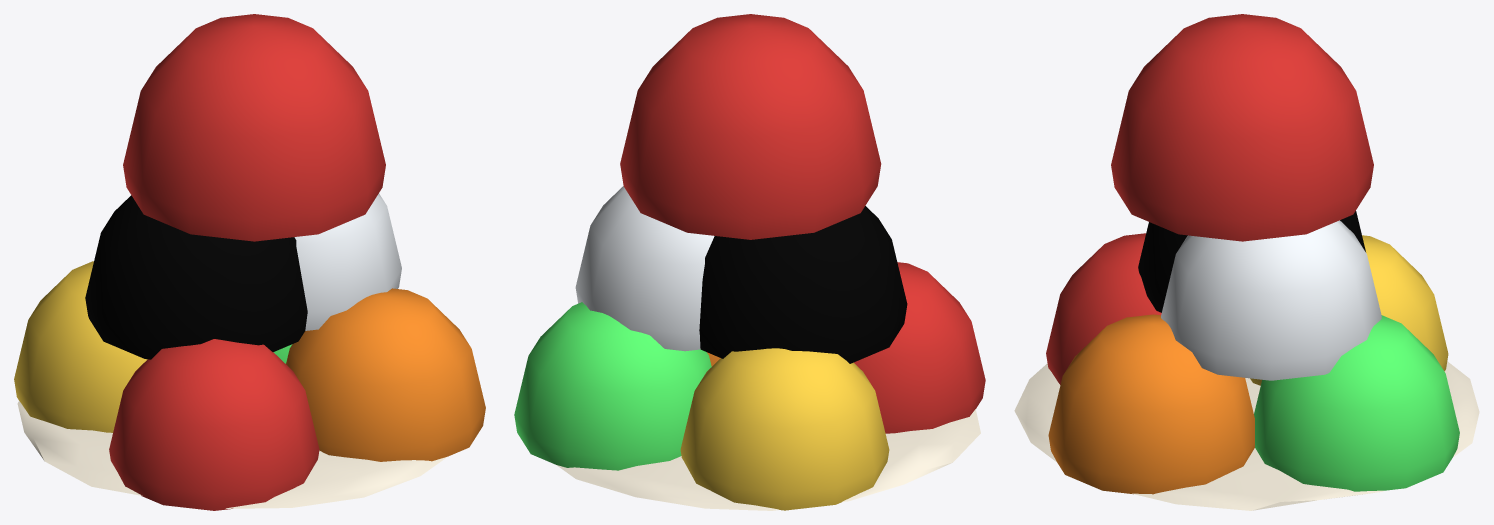
File: GumdropStack.fbx
The picture shows the model from 3 angles, left to right: view 1: azimuth 30°, elevation 25°; view 2: azimuth 150°, elevation 25°; view 3: azimuth 270°, elevation 25°; orthographic projection.
Visible parts, largest first — view 1: GumdropStack; view 2: GumdropStack; view 3: GumdropStack.
Part boxes in pixels (x1,y1,x2,y2): GumdropStack: (14, 14, 485, 510); GumdropStack: (514, 14, 985, 510); GumdropStack: (1014, 14, 1479, 510).
Bounding box in the file's own units: 1.73 × 1.58 × 1.72.
Materials: 2 (2 with a texture image).
